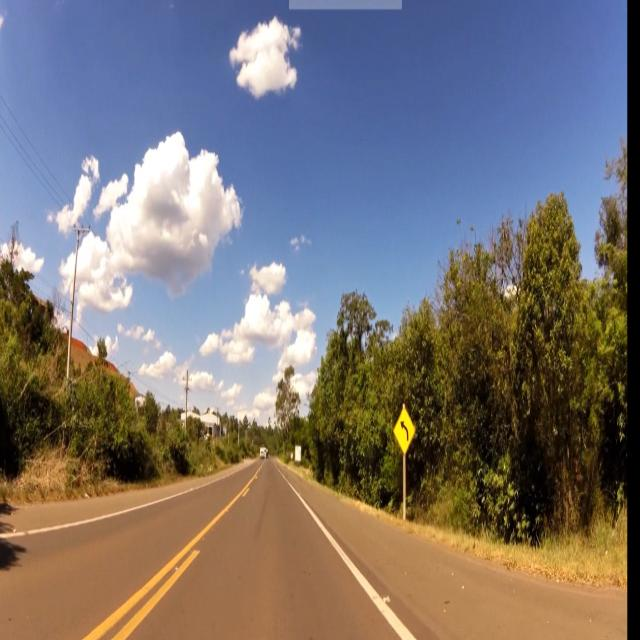A-2a: (393, 405, 415, 460)
